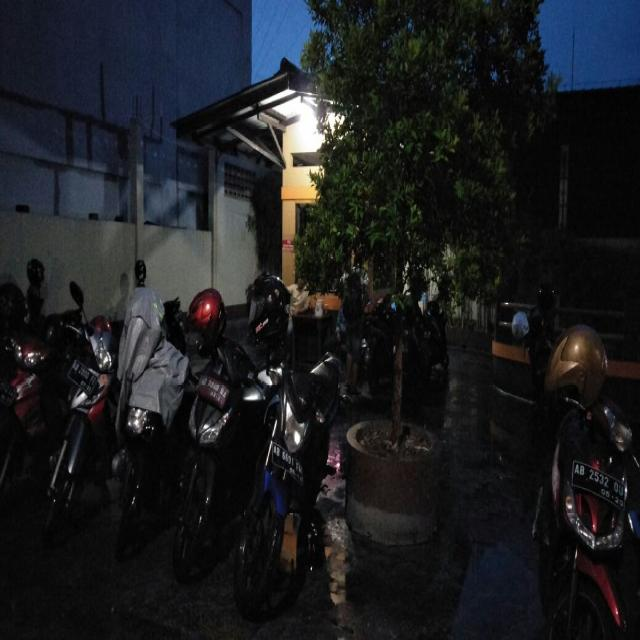plate: (570, 456, 626, 508), (270, 439, 303, 480), (198, 370, 228, 408), (68, 357, 97, 392)
